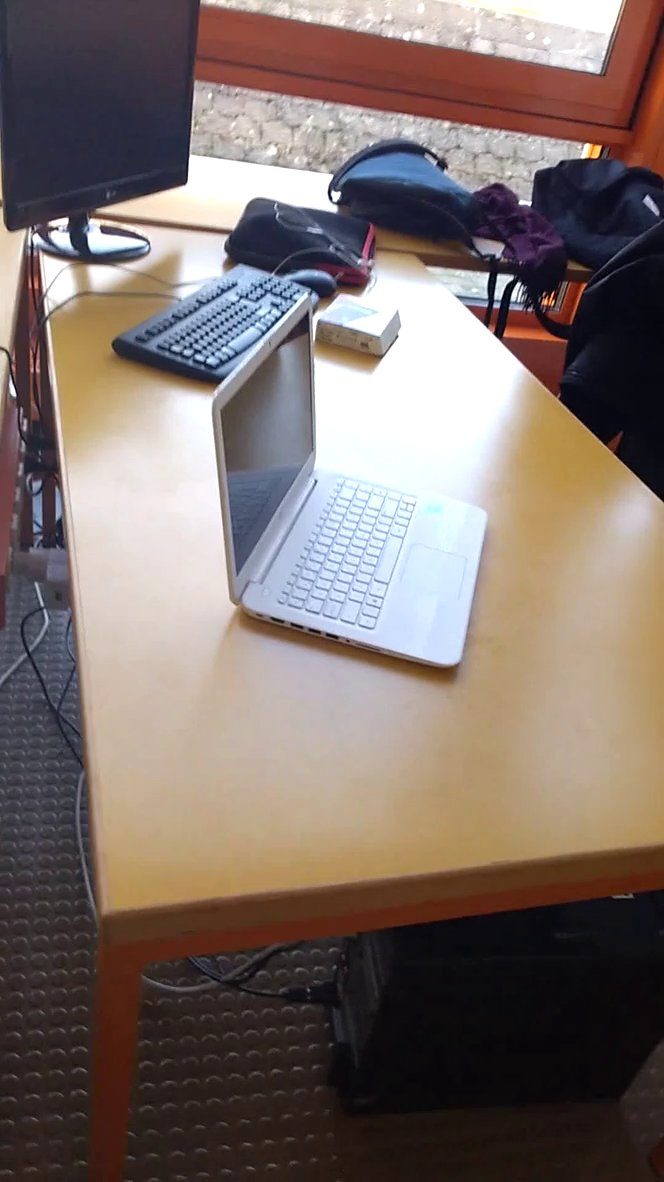bag: (326, 120, 484, 255), (525, 145, 664, 284)
laptop: (199, 283, 516, 687)
